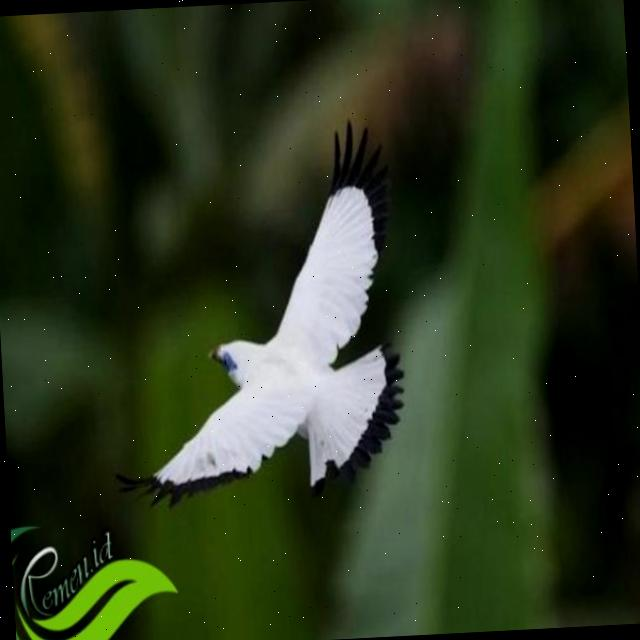Jalak Bali: (59, 96, 454, 556)
